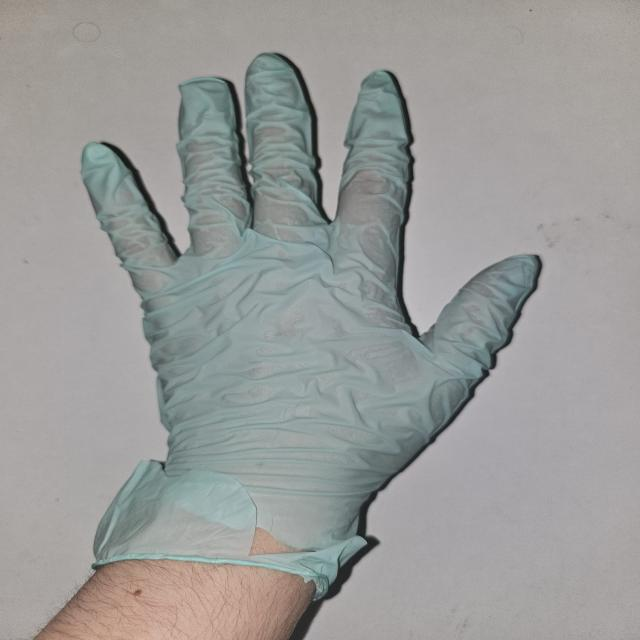gloves_damaged: (79, 52, 543, 593)
